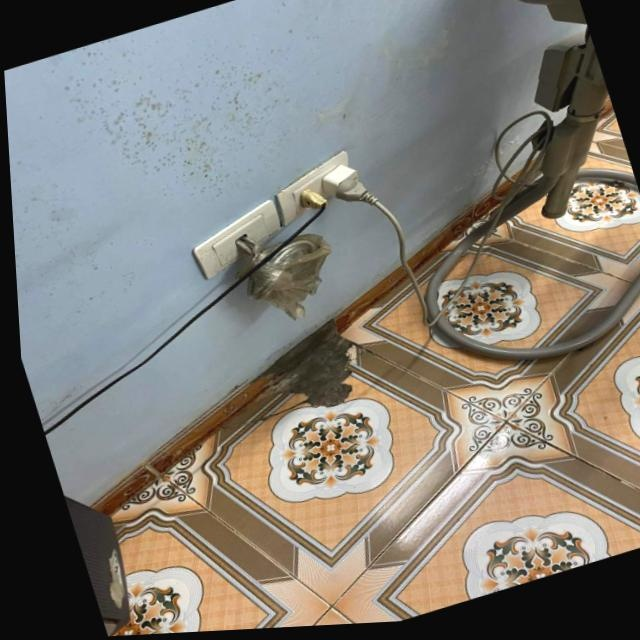outlet: (265, 147, 365, 227)
